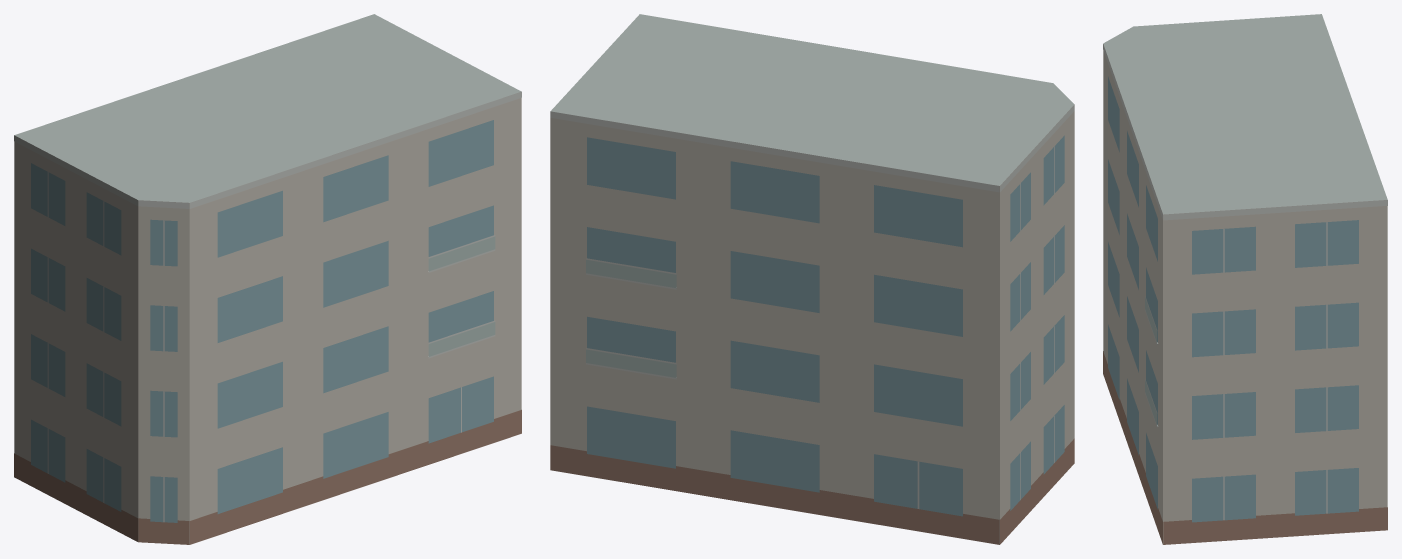
The model's file is survey-upis-32549837.glb.
3 renders of one model, left to right at view 1: azimuth 30°, elevation 25°; view 2: azimuth 150°, elevation 25°; view 3: azimuth 270°, elevation 25°, orthographic. The views are drawn at different scales.
Visible parts, largest first — view 1: survey-upis-32549837.tmp; view 2: survey-upis-32549837.tmp; view 3: survey-upis-32549837.tmp.
Part boxes in pixels (x1=…): survey-upis-32549837.tmp: x1=14, y1=14, x2=521, y2=544; survey-upis-32549837.tmp: x1=550, y1=14, x2=1074, y2=544; survey-upis-32549837.tmp: x1=1103, y1=14, x2=1387, y2=544.
Bounding box in the file's own units: 17.58 × 13.5 × 10.55.
